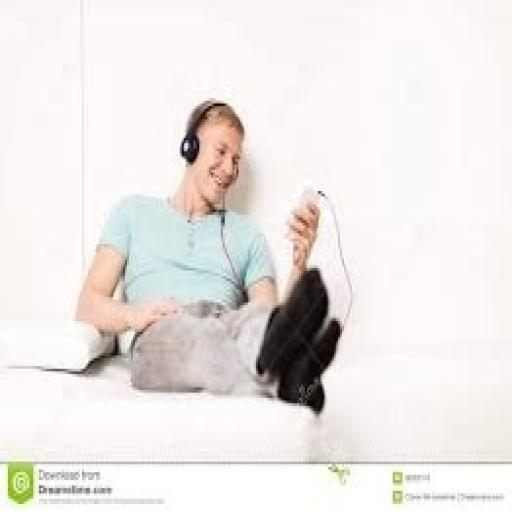listening_to_music: (72, 96, 346, 419)
